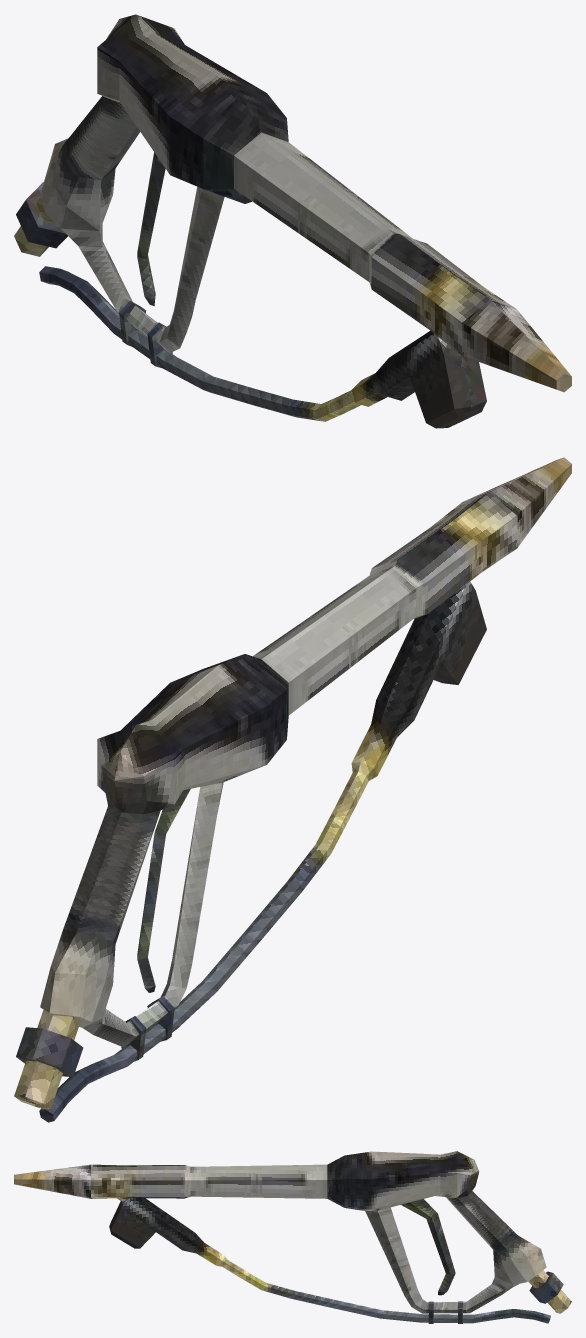
Rendered from flamethrower.glb.
3 views of the same model, one above another, from view 1: azimuth 30°, elevation 25°; view 2: azimuth 150°, elevation 25°; view 3: azimuth 270°, elevation 25° (orthographic). The views are drawn at different scales.
Visible parts, largest first — view 1: Flamethrower; view 2: Flamethrower; view 3: Flamethrower.
Part boxes in pixels (x1,y1,x2,y2): Flamethrower: [14, 14, 571, 428]; Flamethrower: [14, 457, 571, 1122]; Flamethrower: [14, 1151, 571, 1323].
Size of the model in its own units: 0.049 by 0.1614 by 0.4724.
Materials: 1 (1 with a texture image).
